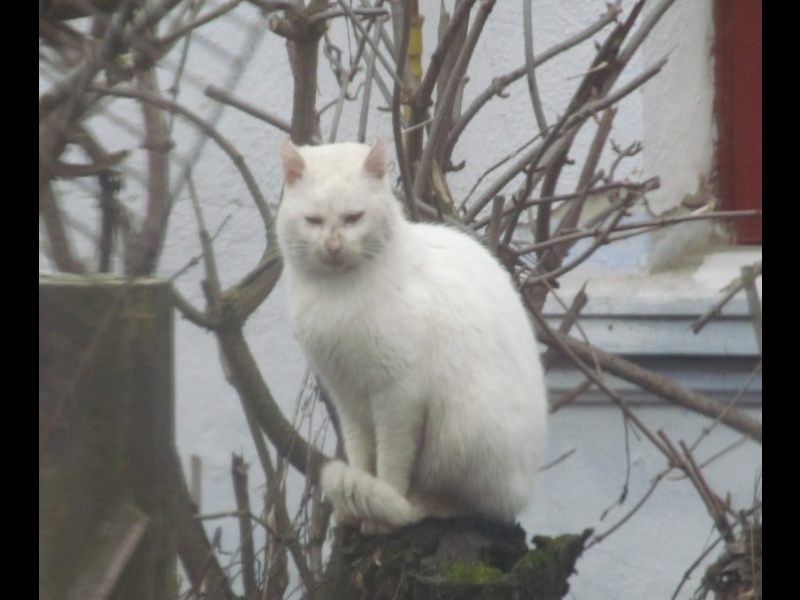cat: (273, 130, 547, 544)
